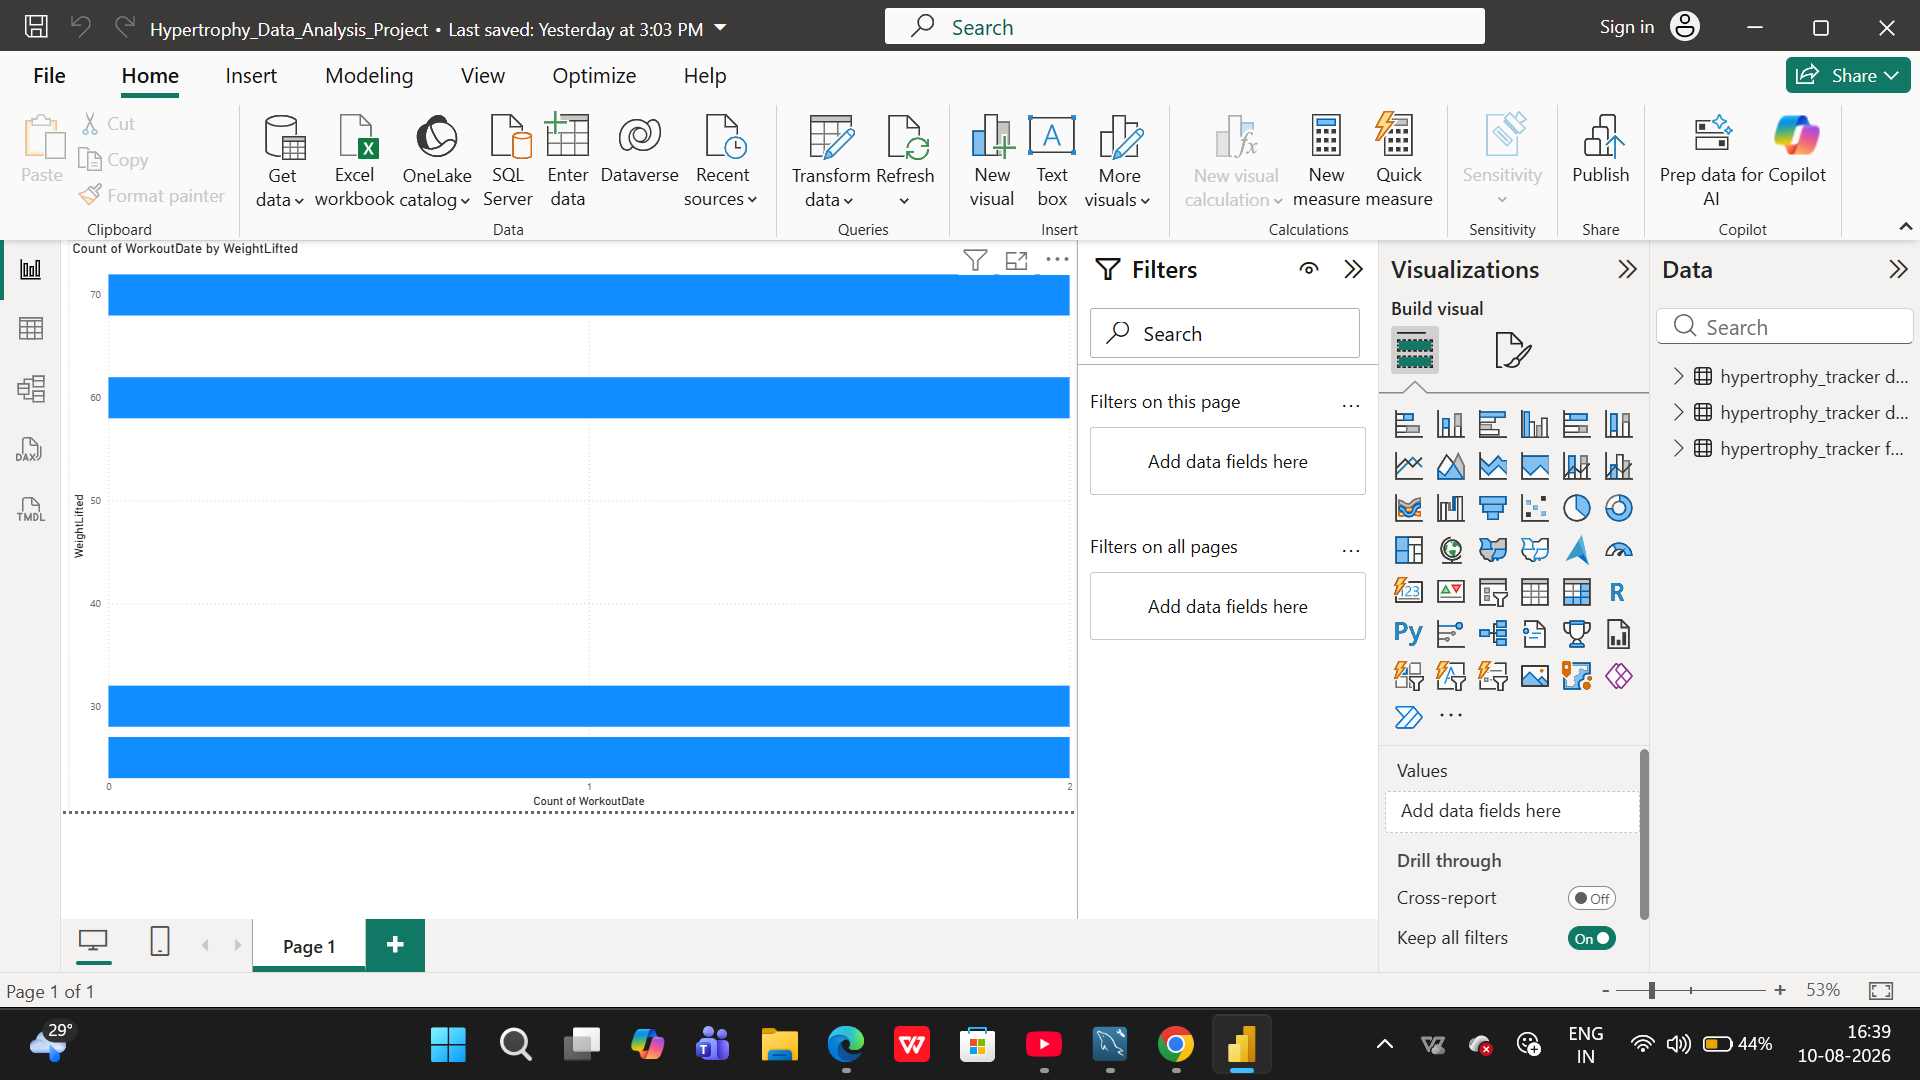

This screenshot's page, from the dashboard's own definition file:
{"tool":"powerbi","page":{"name":"Page 1","canvas":[1280,720],"ordinal":0},"visuals":[{"type":"clusteredBarChart","fields":{"Category":["hypertrophy_tracker fact_workoutsets.WeightLifted"],"Y":["CountNonNull(hypertrophy_tracker dim_workouts.WorkoutDate)"]},"box":[9.4,0,1269.9,720],"z":0}]}

Visuals, with their boxes on the page's 1280x720 design canvas (x1, y1, x2, y2). These are canvas units, not pixel positions in the 1920x1080 screenshot, which may show the page scaled, cropped or inside an application window:
clusteredBarChart - hypertrophy_tracker fact_workoutsets.WeightLifted x CountNonNull(hypertrophy_tracker dim_workouts.WorkoutDate): 9, 0, 1279, 720
